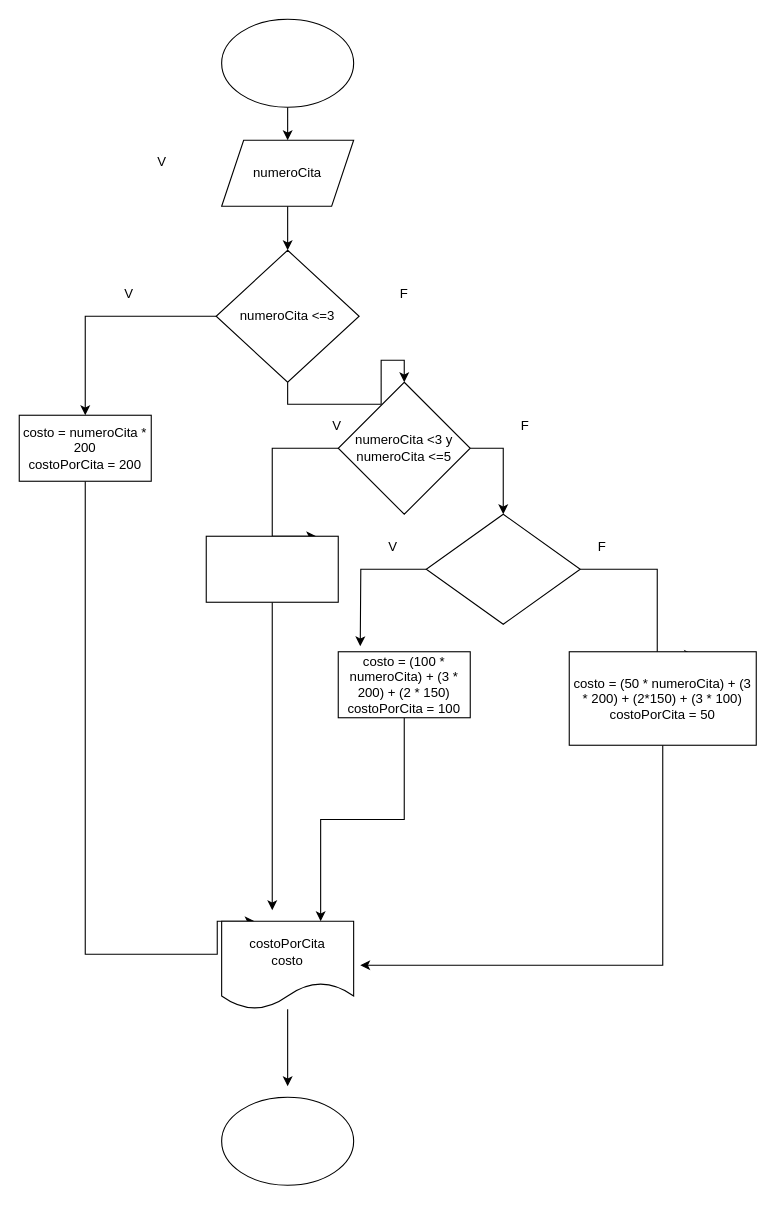
Some shapes in this 776 by 1205 pixel diagram are drawn without their labels. The box of each missing label's shape, as (x1, y1, x2, y2) in pixels:
costo = (150 * numeroCita) + (3 * 200) costoPorCita = 150: (205, 535, 338, 602)
finAlgoritmo: (221, 1096, 354, 1185)
inicio: (221, 18, 354, 107)
numeroCita > 5 y numeroCita <=8: (425, 513, 580, 624)
